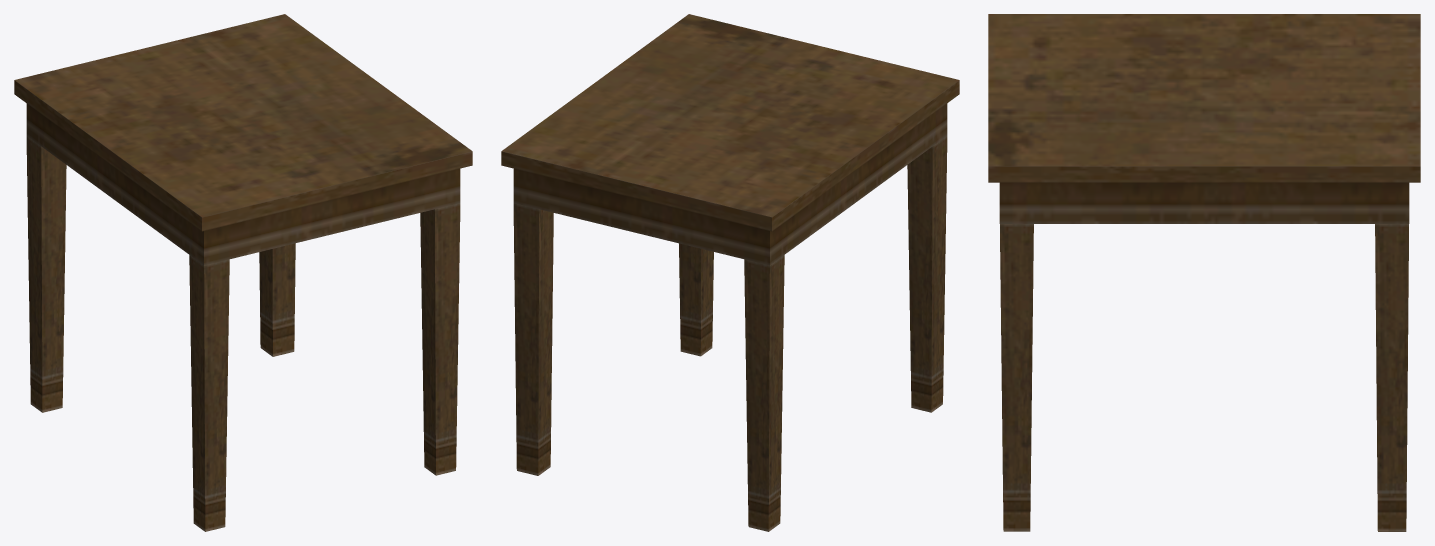
The model's file is slum_endtable.fbx.
3 renders of one model, left to right at view 1: azimuth 30°, elevation 25°; view 2: azimuth 150°, elevation 25°; view 3: azimuth 270°, elevation 25°, orthographic. The views are drawn at different scales.
Visible parts, largest first — view 1: mesh_0; view 2: mesh_0; view 3: mesh_0.
Part boxes in pixels (x1,y1,x2,y2): mesh_0: [14, 14, 472, 531]; mesh_0: [501, 14, 959, 531]; mesh_0: [988, 14, 1420, 531].
Bounding box in the file's own units: 52.8 × 60 × 63.36.
1 material, 1 textured.
